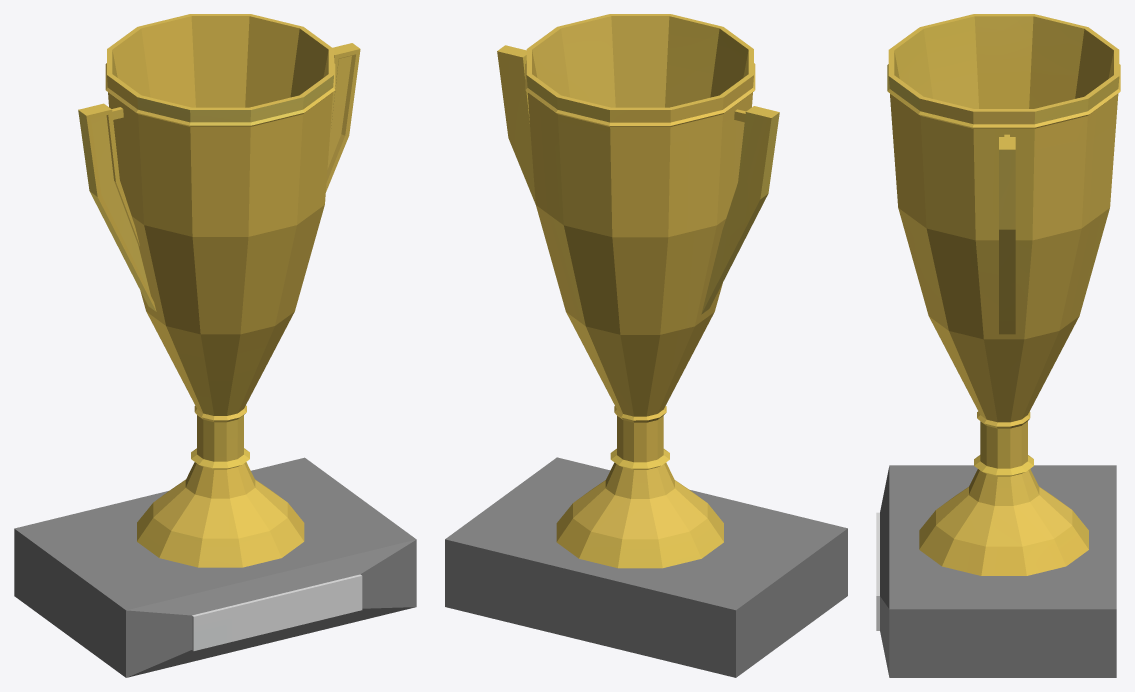
File: trophy.glb
The picture shows the model from 3 angles, left to right: view 1: azimuth 30°, elevation 25°; view 2: azimuth 150°, elevation 25°; view 3: azimuth 270°, elevation 25°; orthographic projection.
Parts seen in each view (by area): view 1: Trophy; view 2: Trophy; view 3: Trophy.
Part boxes in pixels (x1,y1,x2,y2): Trophy: (14, 14, 416, 677); Trophy: (445, 14, 847, 677); Trophy: (876, 14, 1120, 677).
Size of the model in its own units: 0.1652 by 0.2923 by 0.1187.
Materials: 1 (1 with a texture image).
